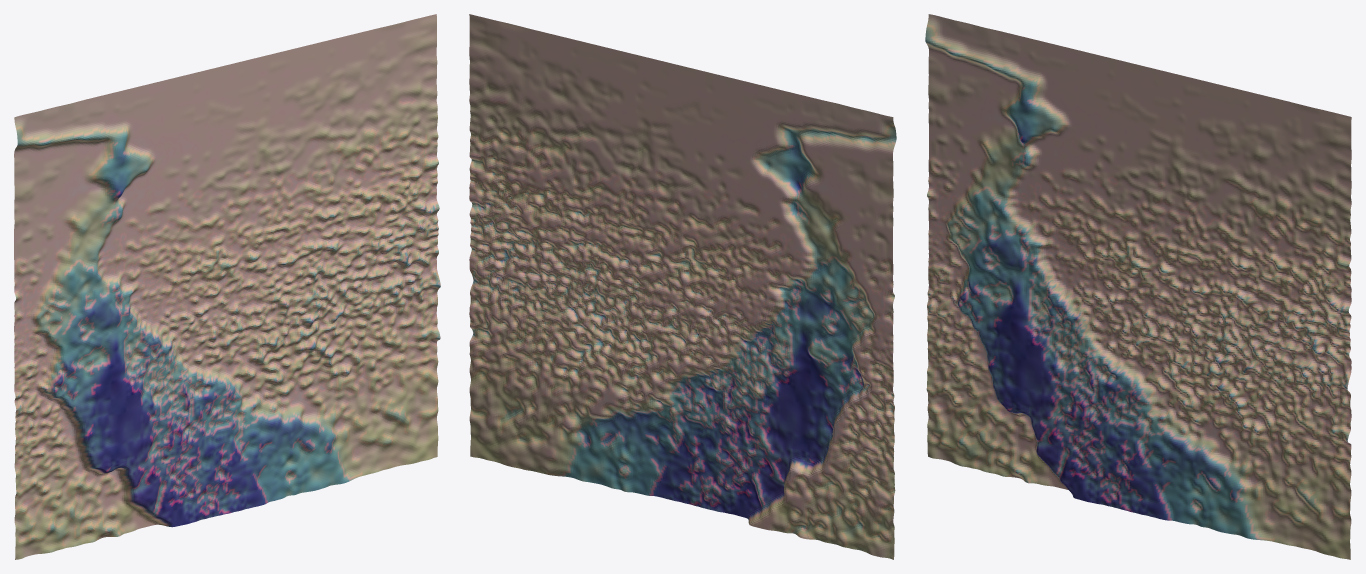
3 renders of one model, left to right at view 1: azimuth 30°, elevation 25°; view 2: azimuth 150°, elevation 25°; view 3: azimuth 330°, elevation 25°, orthographic.
Parts seen in each view (by area): view 1: world; view 2: world; view 3: world.
Boxes of the visible parts, x1=… form: world: x1=14, y1=14, x2=440, y2=559; world: x1=469, y1=14, x2=896, y2=559; world: x1=925, y1=14, x2=1351, y2=559.
Bounding box in the file's own units: 299 × 299 × 9.25.
